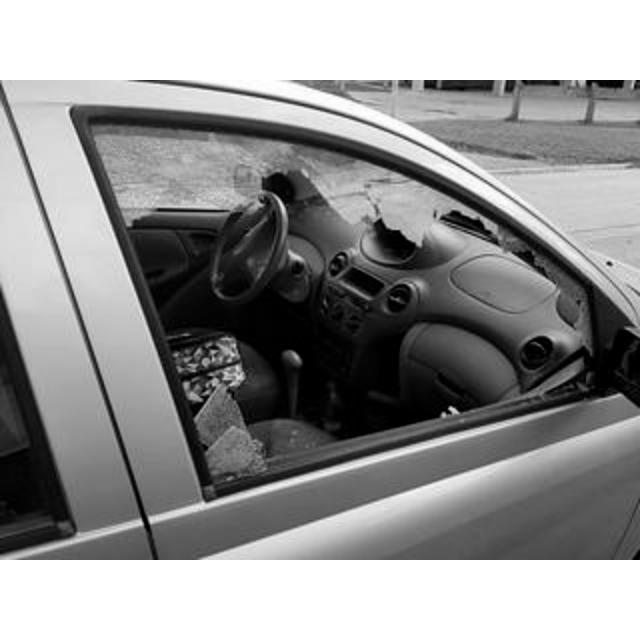doorouter-dent: (68, 102, 606, 526)
